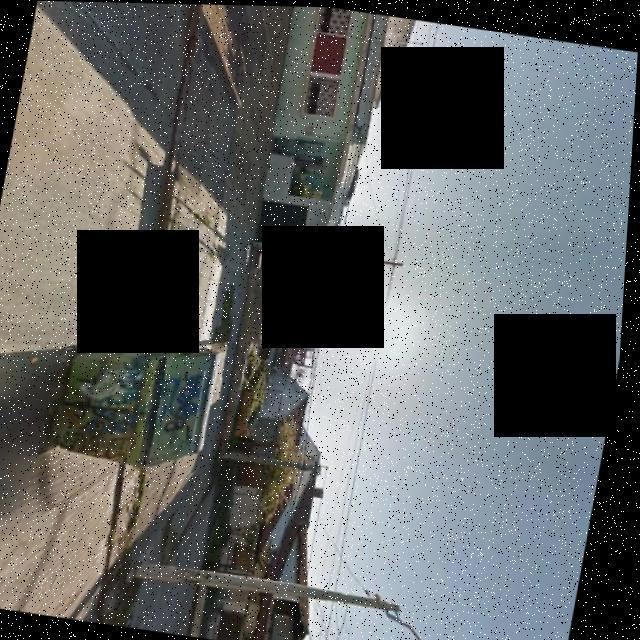bin: (36, 314, 242, 483)
